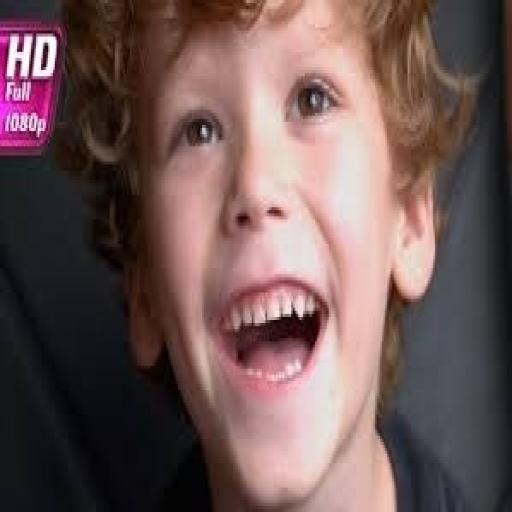laughing: (55, 3, 478, 503)
